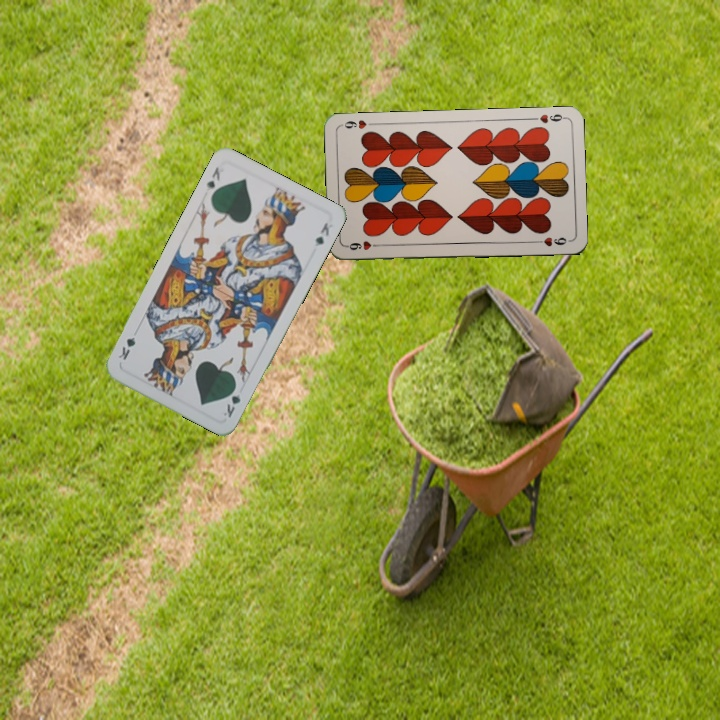GK: (219, 381, 243, 420), (202, 162, 223, 192)
H9: (342, 237, 383, 253), (527, 110, 568, 126)
